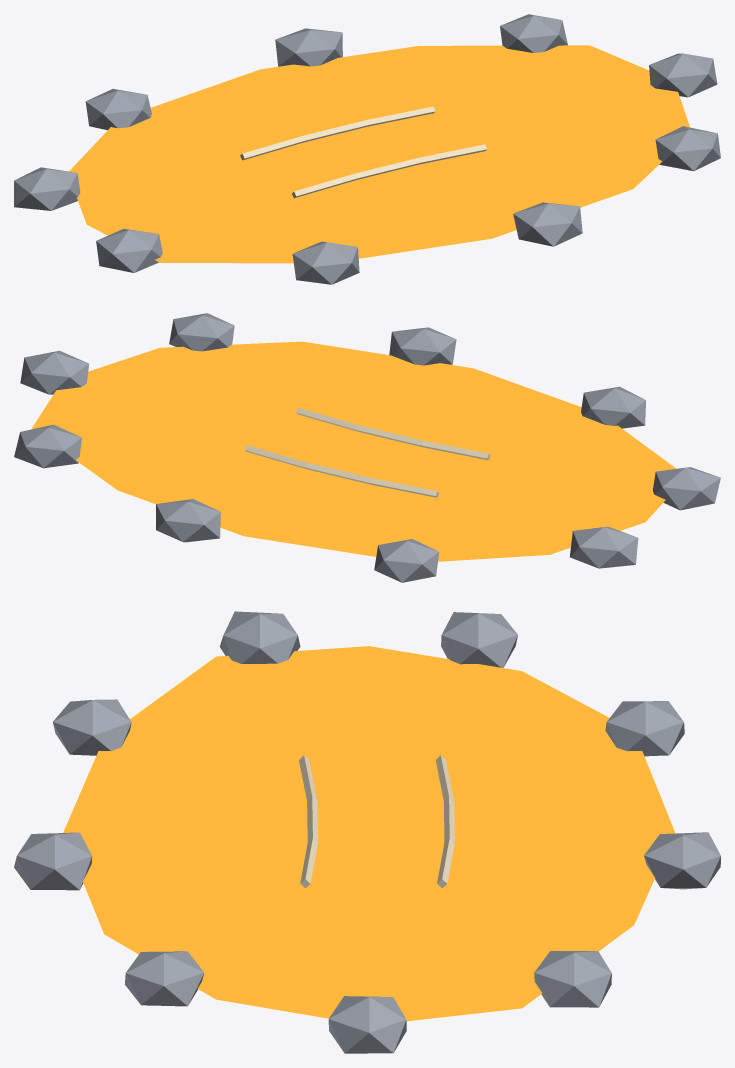
Rendered from enfeite_lago.glb.
The picture shows the model from 3 angles, top to bottom: view 1: azimuth 30°, elevation 25°; view 2: azimuth 150°, elevation 25°; view 3: azimuth 270°, elevation 25°; orthographic projection. The views are drawn at different scales.
Visible parts, largest first — view 1: vulcao_enfeite_lago; view 2: vulcao_enfeite_lago; view 3: vulcao_enfeite_lago.
Boxes of the visible parts, x1,y1,x2,y2 form: vulcao_enfeite_lago: (14,14,720,284); vulcao_enfeite_lago: (14,313,720,582); vulcao_enfeite_lago: (14,611,720,1053).
Size of the model in its own units: 1.54 by 0.0951 by 1.09.
